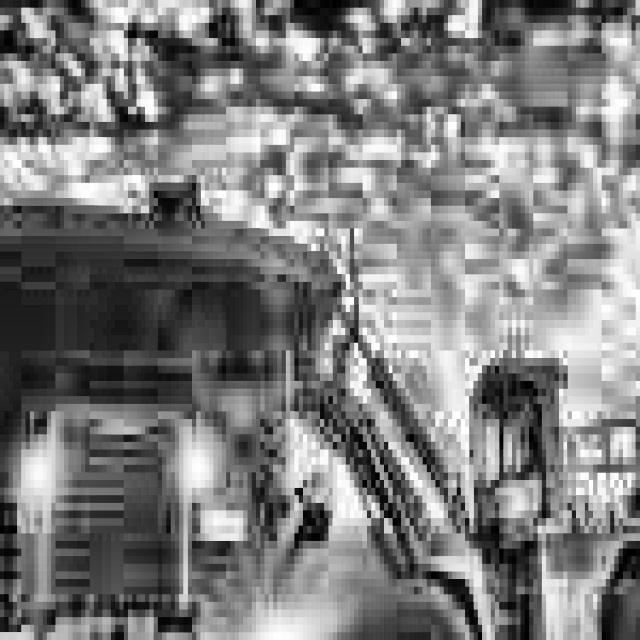buldozerpayloadergrader: (311, 190, 640, 640)
dump_truck: (0, 122, 350, 640)
